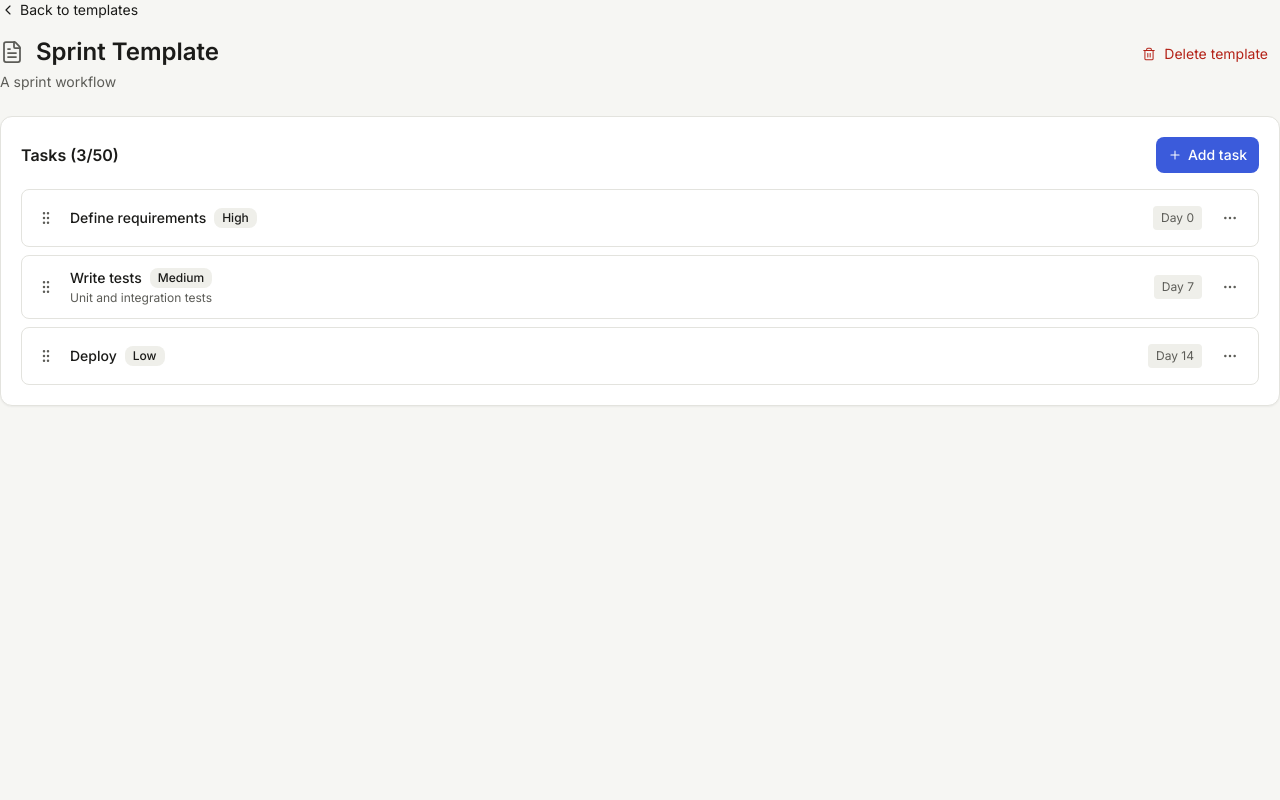
Test: TemplateDetailPage › delete task via actions menu shows ConfirmDialog
The width and height of the screenshot is (1280, 800).
What coordinates should you click on to do the following:
click the button named "actions for define requirements"
I would click on:
 (1230, 218)
Its box is [1214,202,1246,234].
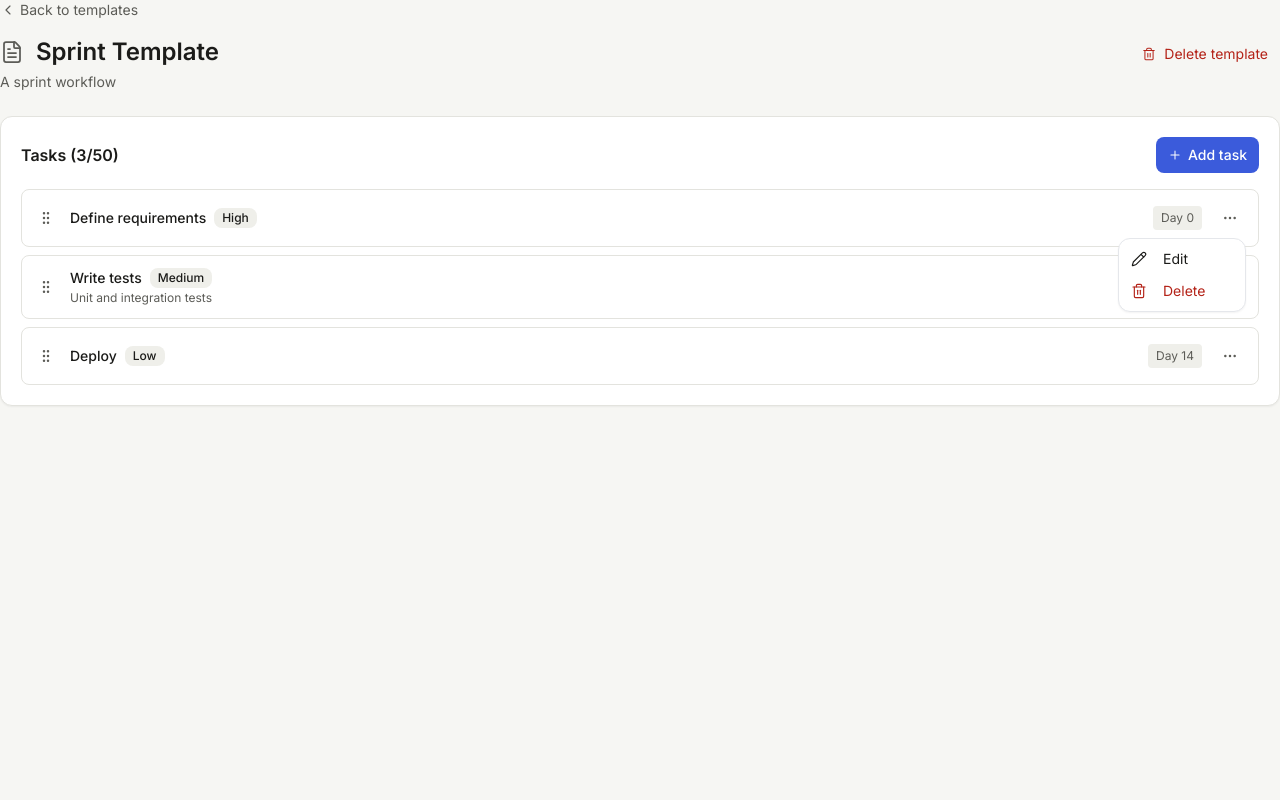
What coordinates should you click on to do the following:
click the menu item "Delete"
I would click on:
 (1168, 290)
Its box is [1131,282,1205,299].
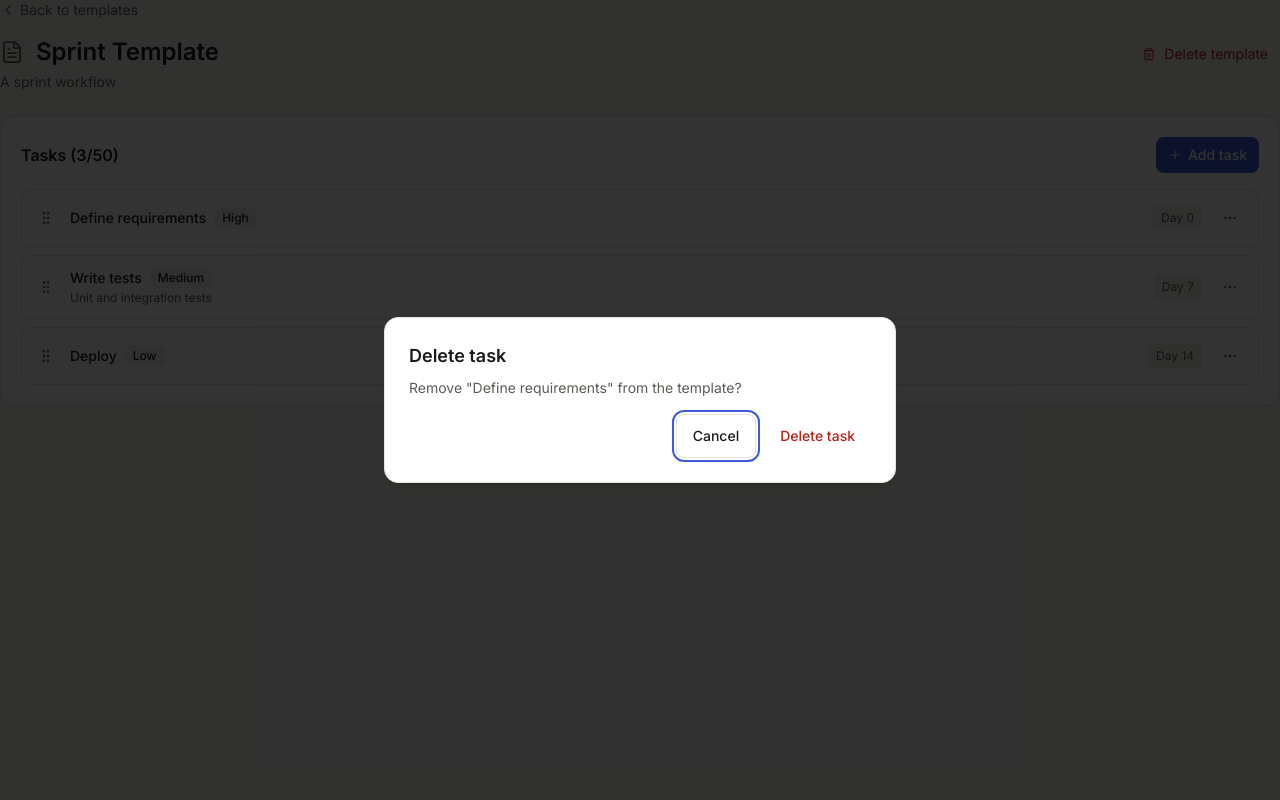
Check: the dialog is shown, box [384,317,896,483]
Check: the heading "Delete task" is shown, box [409,345,506,366]
